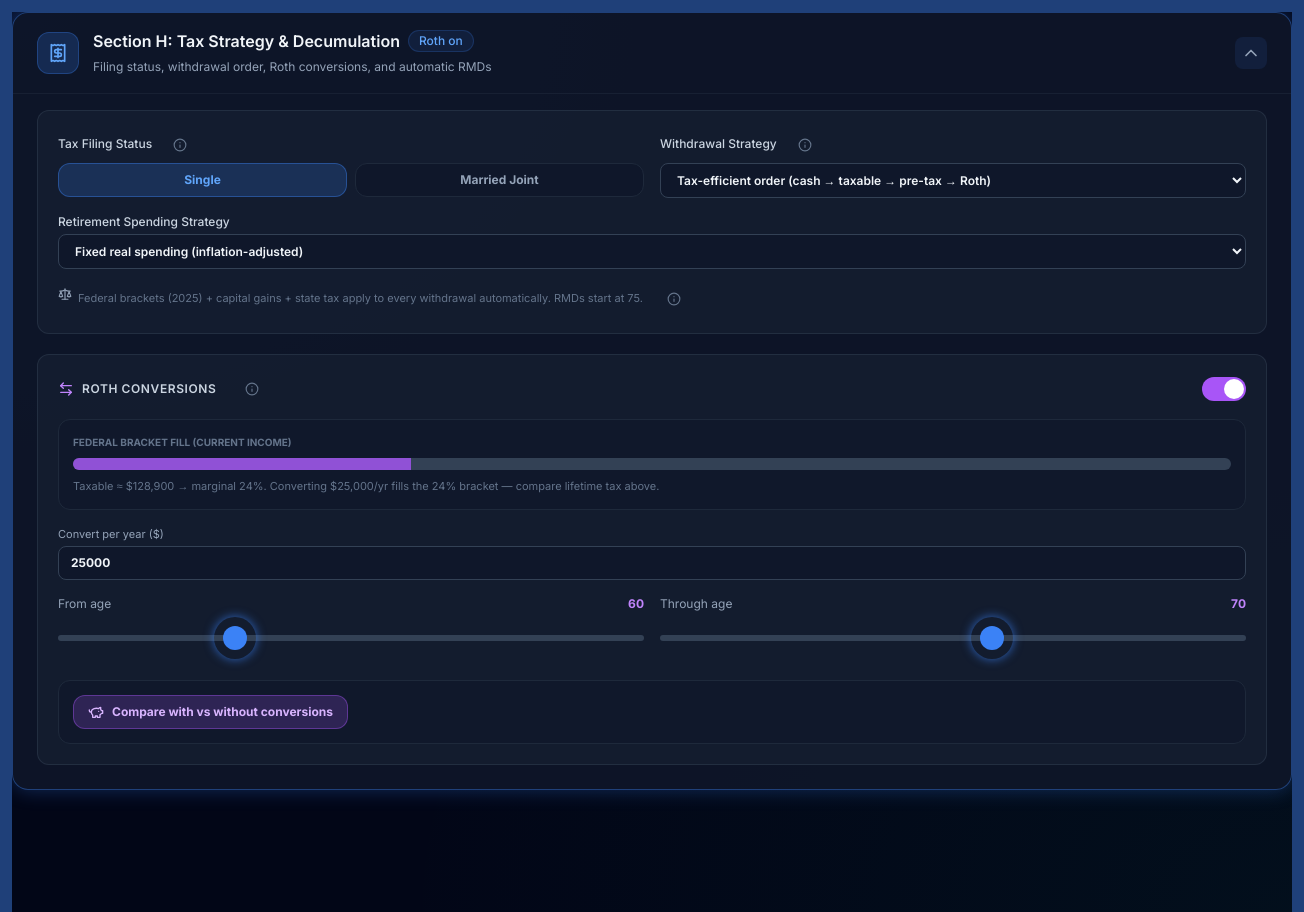
Test case: TaxStrategySection extra › runs explorer
The width and height of the screenshot is (1304, 912).
What coordinates should you click on to do the following:
click the button "Compare with vs without conversions"
I would click on:
 (210, 712)
Its box is [73,695,348,729].
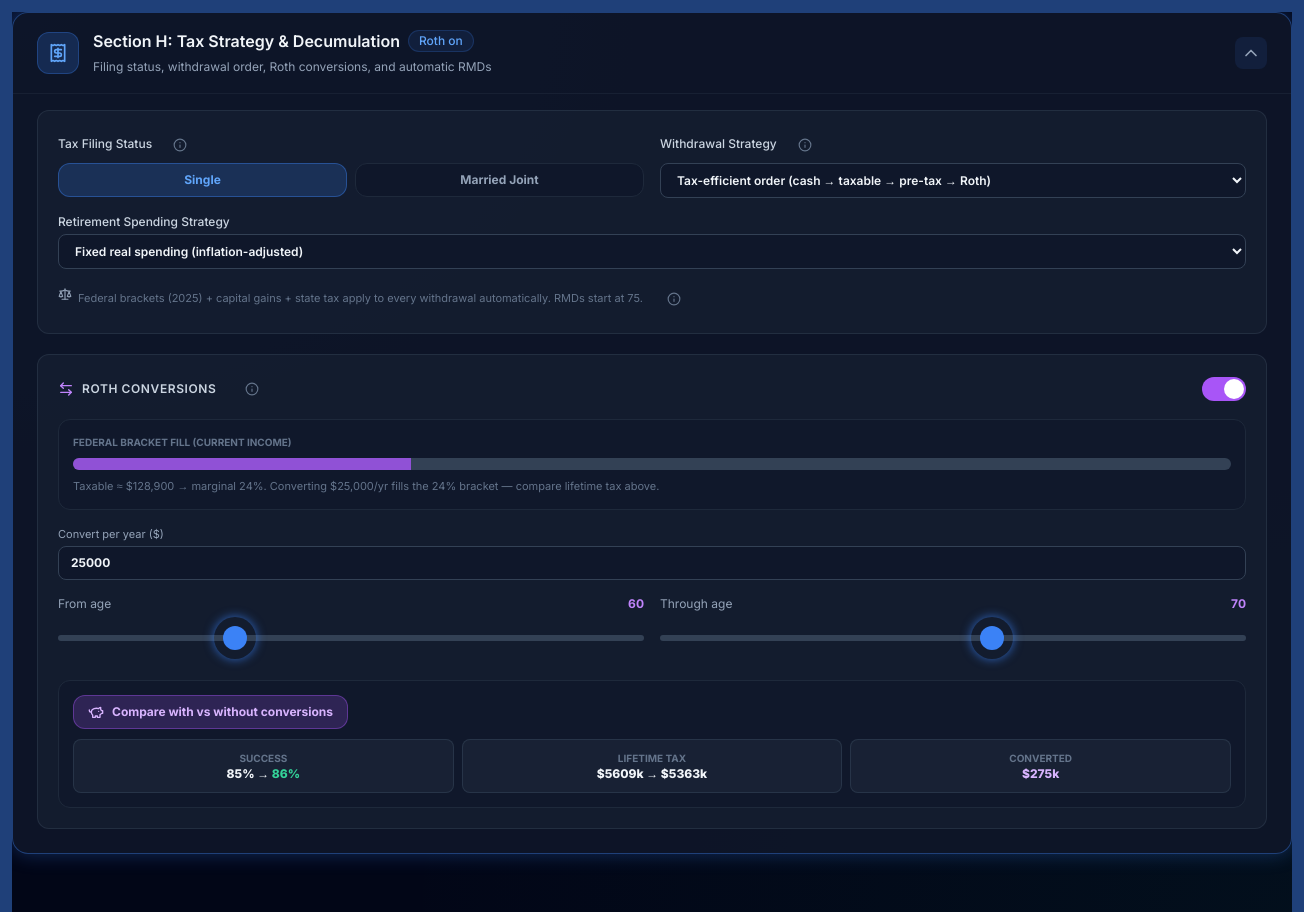
Check: the text "Success" is shown, box [239,752,287,764]
